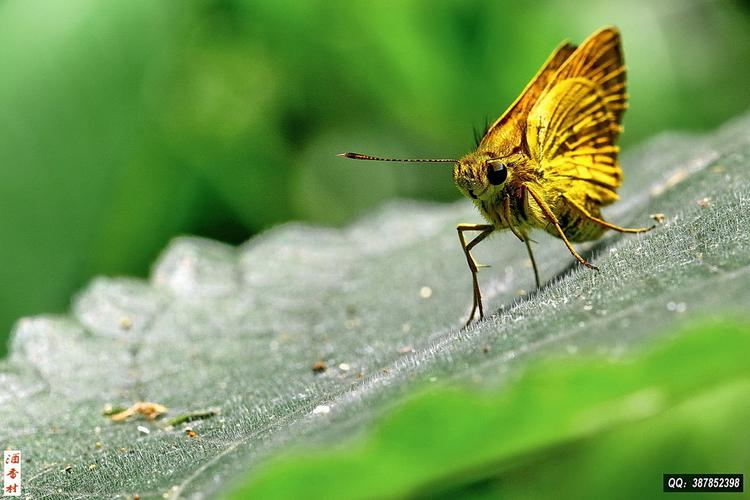Hesperiidae: (332, 17, 637, 331)
